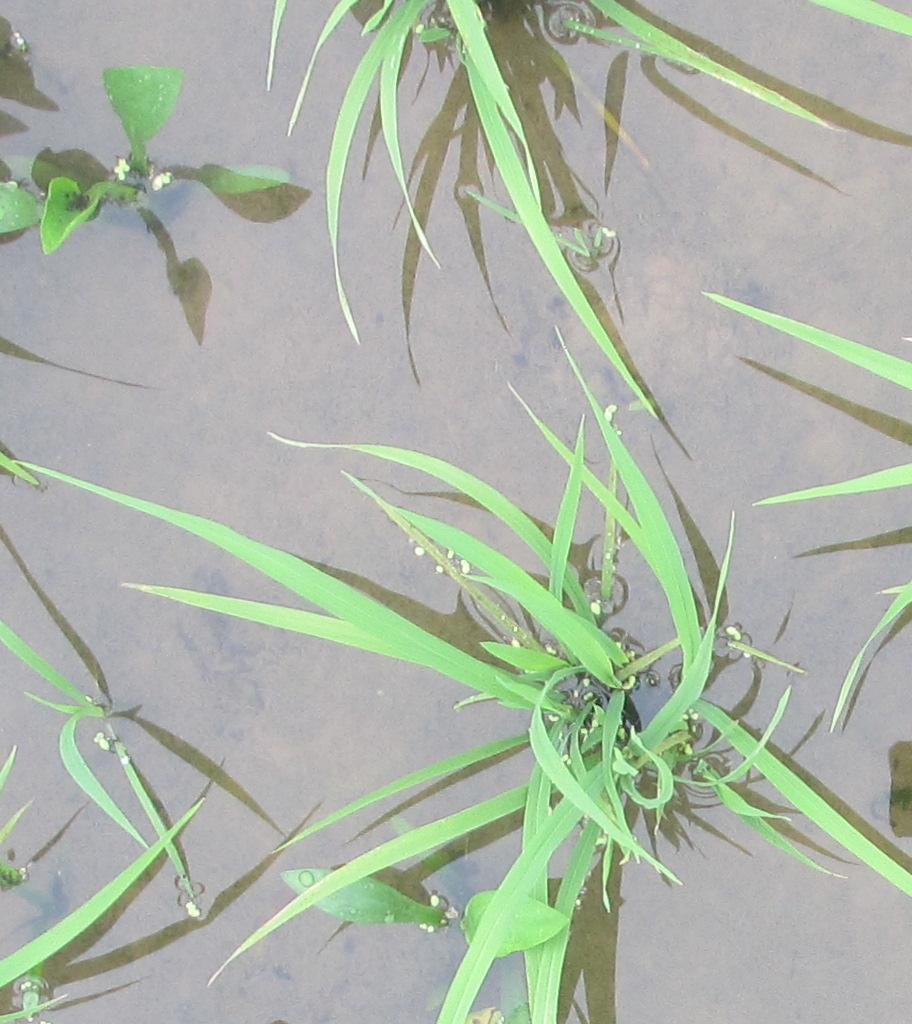Weed: (39, 63, 302, 258)
